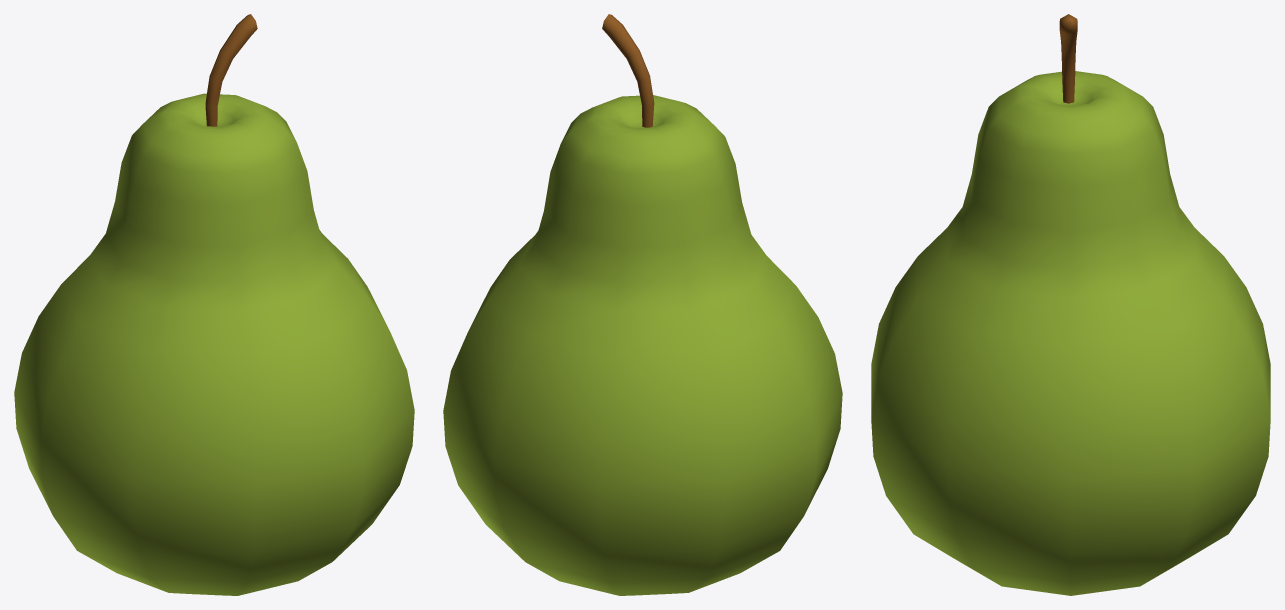
Rendered from Pear.fbx.
The picture shows the model from 3 angles, left to right: view 1: azimuth 30°, elevation 25°; view 2: azimuth 150°, elevation 25°; view 3: azimuth 270°, elevation 25°; orthographic projection. The views are drawn at different scales.
Parts seen in each view (by area): view 1: Pear; view 2: Pear; view 3: Pear.
Boxes of the visible parts, box(x1,y1,x2,y2) form: Pear: box(14, 14, 414, 595); Pear: box(443, 14, 842, 595); Pear: box(871, 14, 1270, 595).
Size of the model in its own units: 0.3881 by 0.5889 by 0.3691.
Materials: 1 (1 with a texture image).
